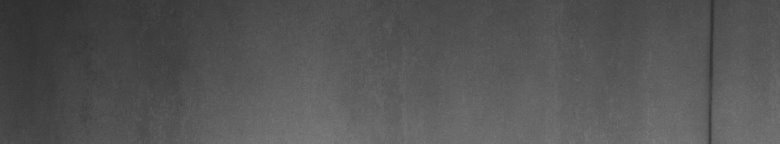hd: (704, 4, 719, 136)
